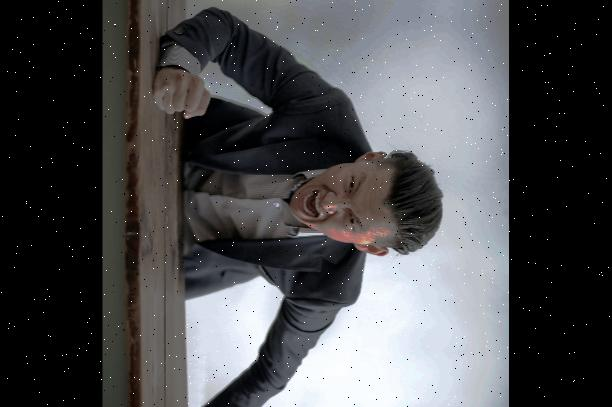Rock: (144, 60, 219, 121)
